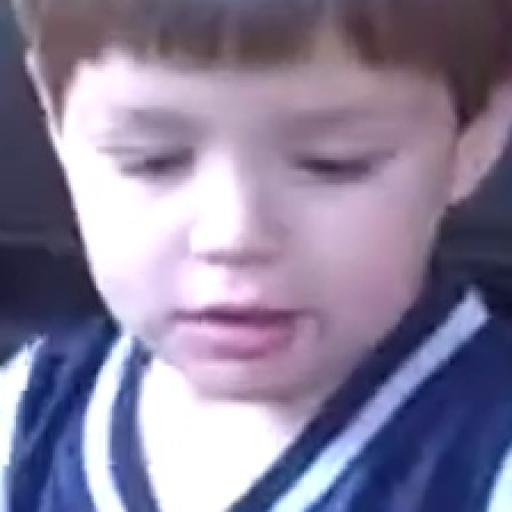Autism: (57, 4, 512, 388)
